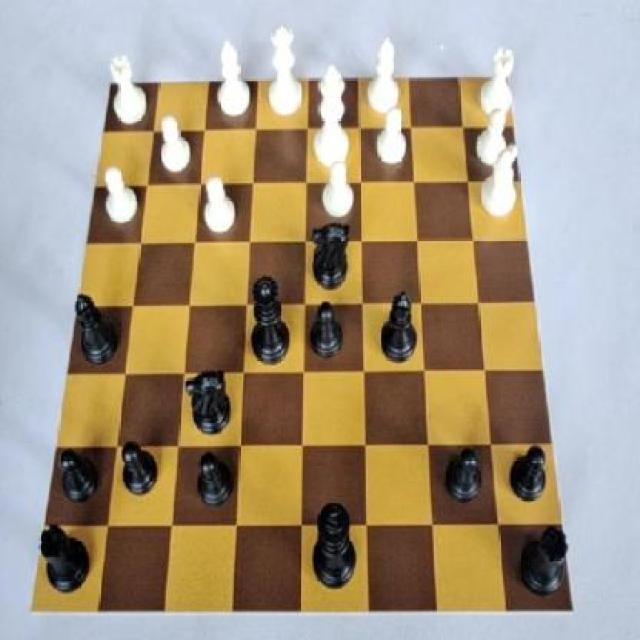bishop: (376, 281, 424, 367), (71, 292, 123, 370)
black-bishop: (309, 500, 367, 596)
black-king: (181, 362, 237, 442), (309, 214, 354, 298)
black-knight: (502, 438, 550, 512), (441, 440, 487, 517), (54, 442, 104, 512), (189, 446, 240, 513), (114, 436, 163, 502), (306, 302, 351, 372)
black-pawn: (248, 275, 294, 368)
black-queen: (32, 516, 95, 602), (511, 523, 575, 601)
black-rook: (211, 40, 256, 125), (363, 32, 405, 121)
white-bishop: (311, 60, 353, 177)
white-king: (479, 139, 526, 223)
white-knight: (99, 158, 143, 230), (158, 111, 200, 178), (318, 158, 360, 222), (475, 108, 513, 170), (200, 176, 238, 237), (374, 103, 409, 169)
white-pawn: (263, 14, 308, 120)
white-queen: (101, 54, 152, 134), (475, 39, 518, 122)
